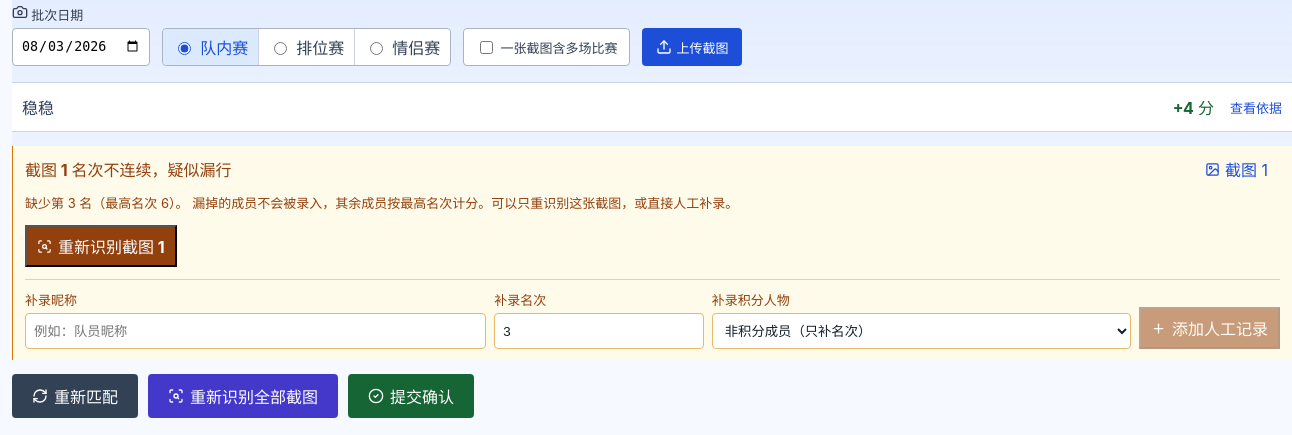
Scenario: re-runs AI recognition only for the warning screenshot
The width and height of the screenshot is (1292, 435).
Click the button "重新识别截图 1": (101,246) [25,225,177,267]
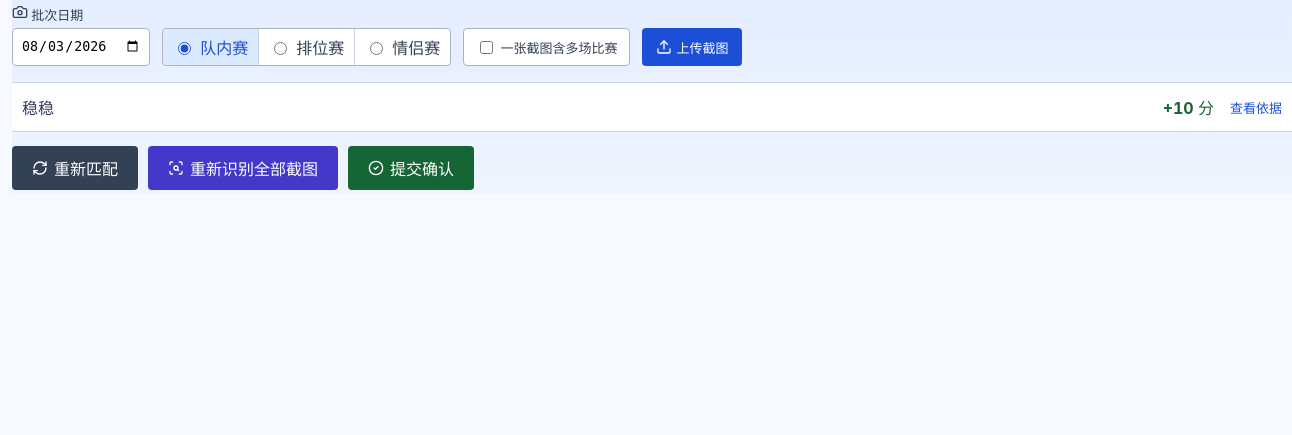
Result: the text "+10 分" is shown at [1163,95,1214,119]
